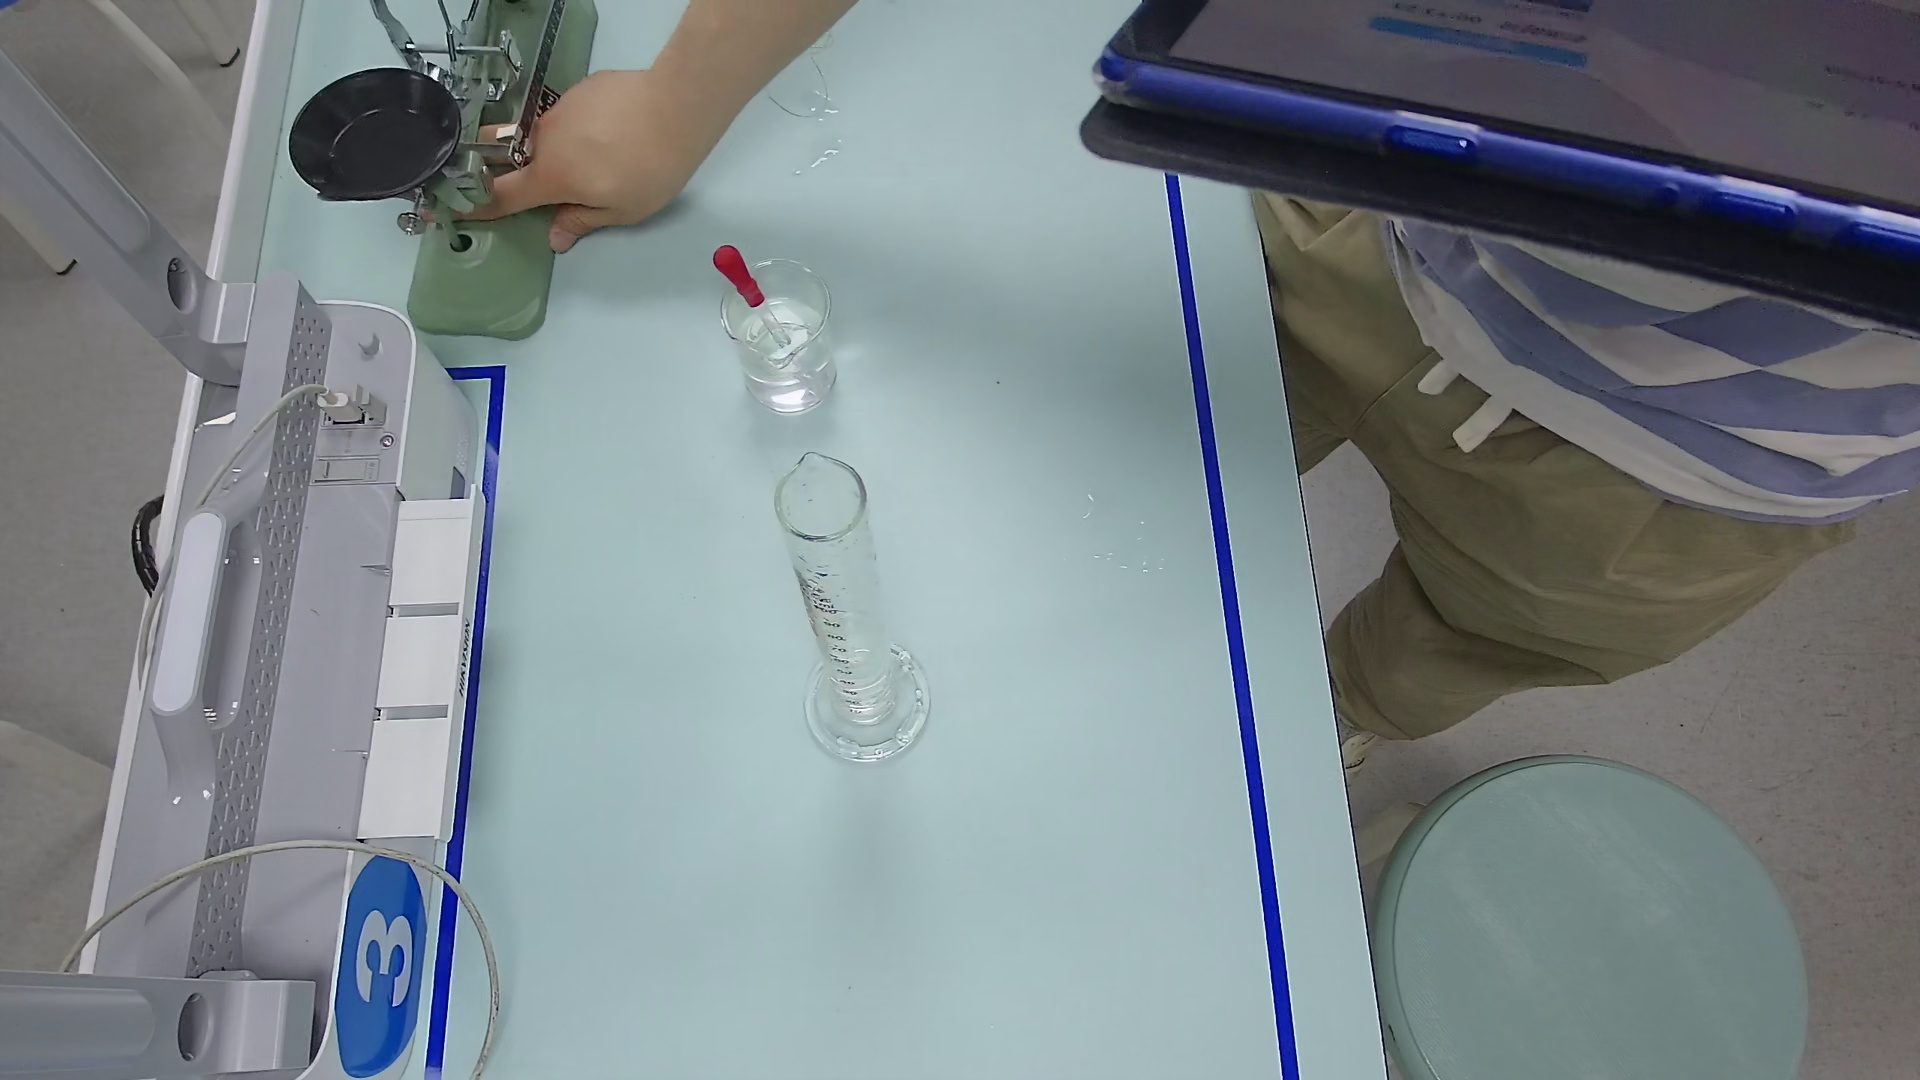ao: (814, 611, 889, 667)
bei: (724, 258, 845, 414)
diguan: (711, 247, 798, 359)
diguantou: (713, 245, 773, 305)
hand: (512, 53, 671, 255)
liangdi: (796, 644, 928, 765)
liangtong: (773, 446, 928, 760)
tuo: (280, 65, 477, 200)
